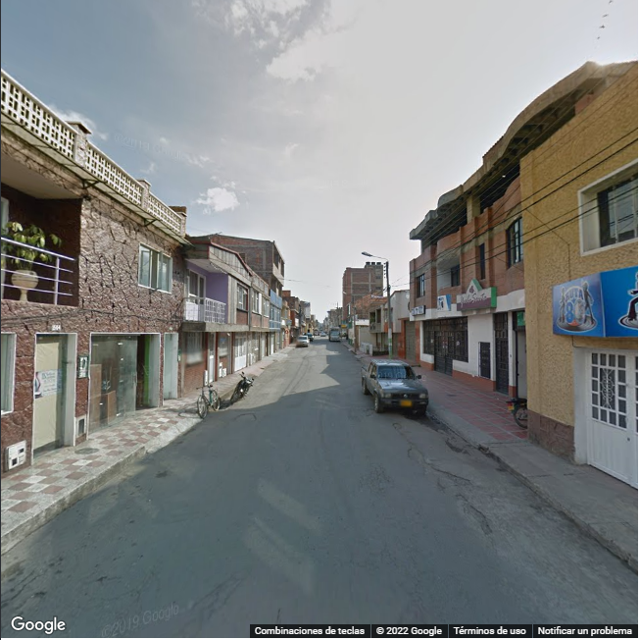D00: (155, 575, 231, 629)
D20: (49, 571, 160, 634)
D40: (454, 490, 501, 537)
